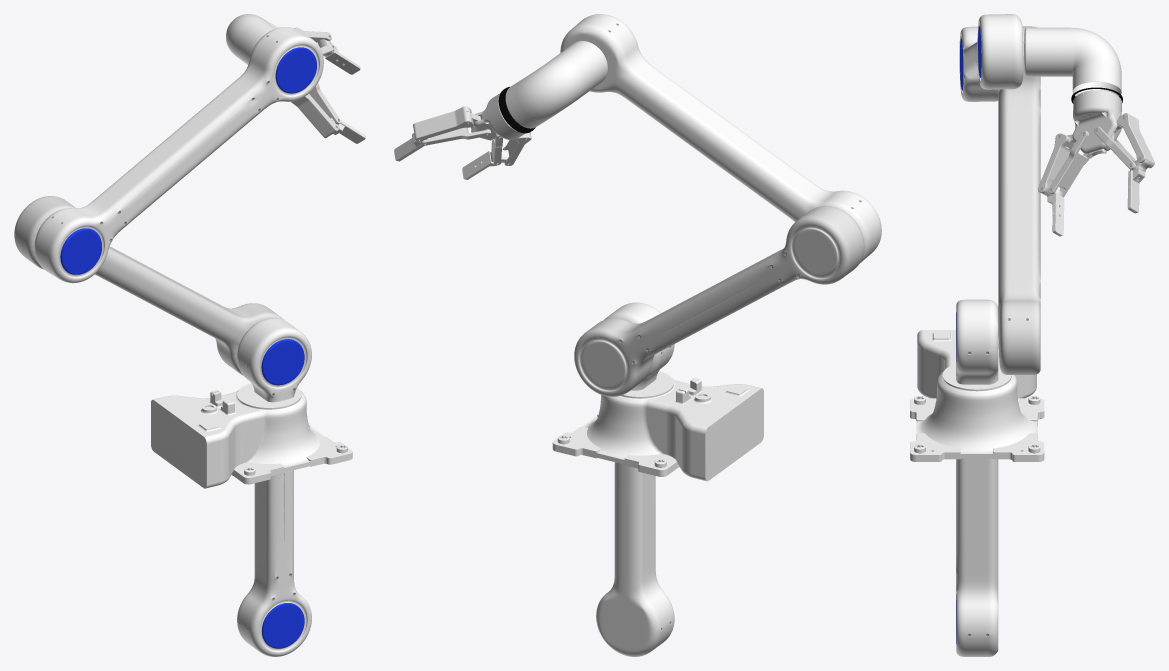
3 renders of one model, left to right at view 1: azimuth 30°, elevation 25°; view 2: azimuth 150°, elevation 25°; view 3: azimuth 270°, elevation 25°, orthographic. The views are drawn at different scales.
Visible parts, largest first — view 1: arm1 .002, Link0N, arm1 .012, arm1 .001, arm1 .003, Lim1.L.001; view 2: arm1 .001, Link0N, arm1 .002, arm1 .012, arm1 .003, Lim1.R.001, Housing.001; view 3: arm1 .001, Link0N, arm1 .012, arm1 .003, arm1 .002, Housing.001, Lim2.L.001, Lim1.L.001, Lim1.R.001, Fingertip.R.001, Lim2.R.001, Fingertip.L.001.
Part boxes in pixels (x1=…): arm1 .002: x1=34, y1=27, x2=323, y2=283; Link0N: x1=151, y1=383, x2=352, y2=488; arm1 .012: x1=237, y1=318, x2=311, y2=656; arm1 .001: x1=14, y1=196, x2=284, y2=375; arm1 .003: x1=226, y1=14, x2=277, y2=64; Lim1.L.001: x1=291, y1=94, x2=338, y2=138; arm1 .001: x1=574, y1=206, x2=864, y2=396; Link0N: x1=552, y1=371, x2=763, y2=481; arm1 .002: x1=560, y1=14, x2=881, y2=262; arm1 .012: x1=596, y1=302, x2=674, y2=656; arm1 .003: x1=498, y1=41, x2=607, y2=133; Lim1.R.001: x1=413, y1=106, x2=480, y2=141; Housing.001: x1=471, y1=93, x2=525, y2=140; arm1 .001: x1=998, y1=26, x2=1040, y2=374; Link0N: x1=910, y1=330, x2=1044, y2=461; arm1 .012: x1=956, y1=299, x2=998, y2=656; arm1 .003: x1=1024, y1=27, x2=1122, y2=103; arm1 .002: x1=959, y1=14, x2=1023, y2=101; Housing.001: x1=1072, y1=90, x2=1121, y2=158; Lim2.L.001: x1=1048, y1=130, x2=1089, y2=197; Lim1.L.001: x1=1038, y1=133, x2=1074, y2=194; Lim1.R.001: x1=1116, y1=113, x2=1154, y2=168; Fingertip.R.001: x1=1127, y1=168, x2=1145, y2=213; Lim2.R.001: x1=1094, y1=126, x2=1135, y2=169; Fingertip.L.001: x1=1047, y1=193, x2=1064, y2=236.
Size of the model in its own units: 8.37 by 12.39 by 4.25.
9 materials, 1 textured.
